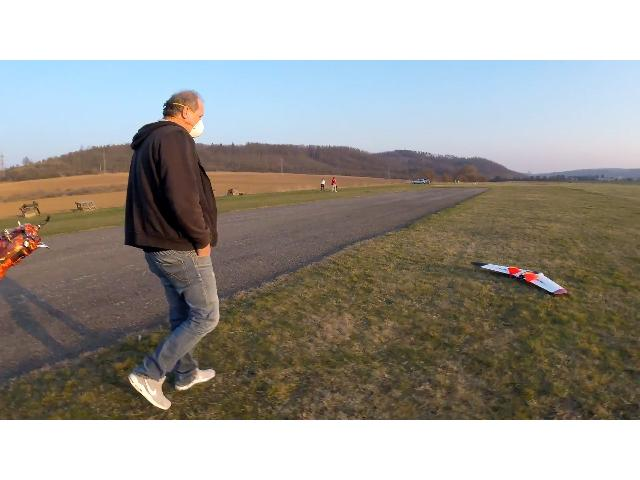Anti-Drone: (466, 241, 574, 304)
